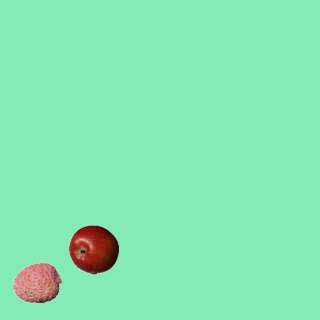Apple Braeburn: (68, 224, 118, 274)
Lychee: (12, 257, 62, 307)
